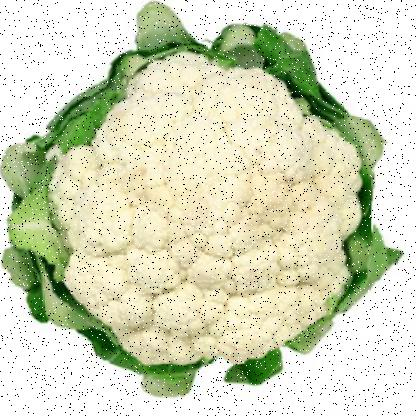cauliflower: (31, 63, 371, 379)
